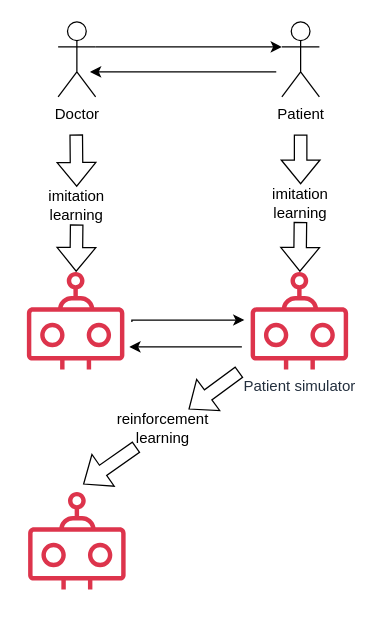
Image size: 376x638. Some labels were removed from this diagram. Each missing label, with the centre of its shape:
"Doctor optimizer" goes at (76,540).
"Doctor simulator" goes at (75,320).
